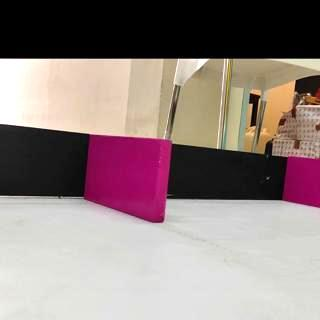xparking: (90, 138, 166, 218), (287, 158, 320, 200)
